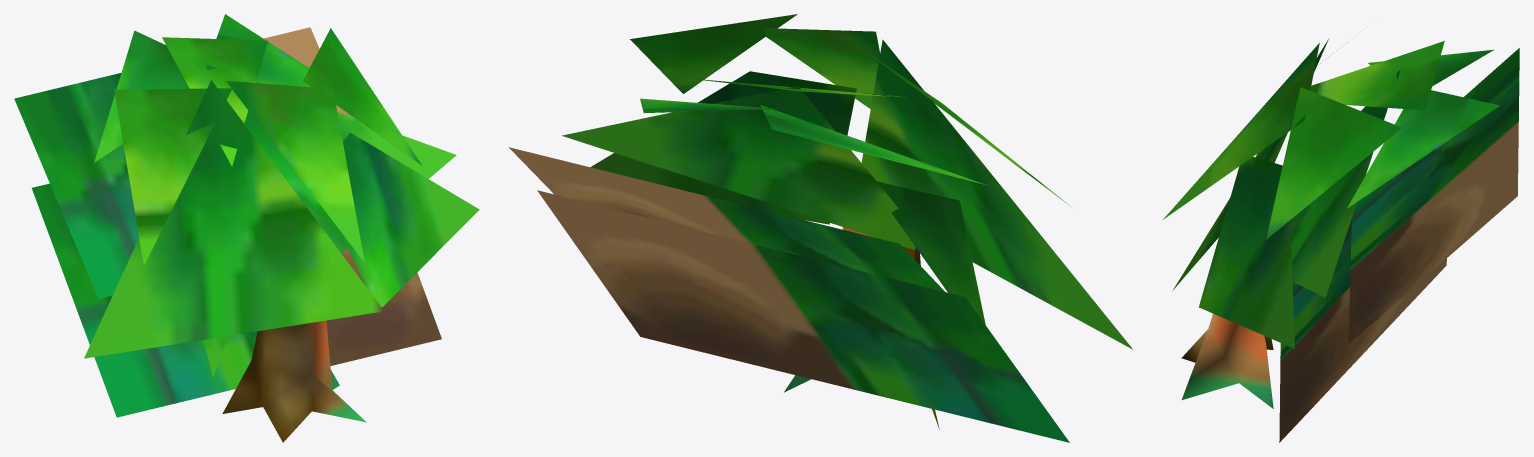
File: fg_bushB_1.dae
The picture shows the model from 3 angles, left to right: view 1: azimuth 30°, elevation 25°; view 2: azimuth 150°, elevation 25°; view 3: azimuth 270°, elevation 25°; orthographic projection. The views are drawn at different scales.
Parts seen in each view (by area): view 1: fg_bushB_1; view 2: fg_bushB_1; view 3: fg_bushB_1.
Boxes of the visible parts, left/top/right/bottom form: fg_bushB_1: left=14, top=14, right=479, bottom=442; fg_bushB_1: left=508, top=14, right=1132, bottom=442; fg_bushB_1: left=1163, top=39, right=1519, bottom=442.
Bounding box in the file's own units: 34.76 × 25.18 × 25.46.
1 material, 1 textured.
